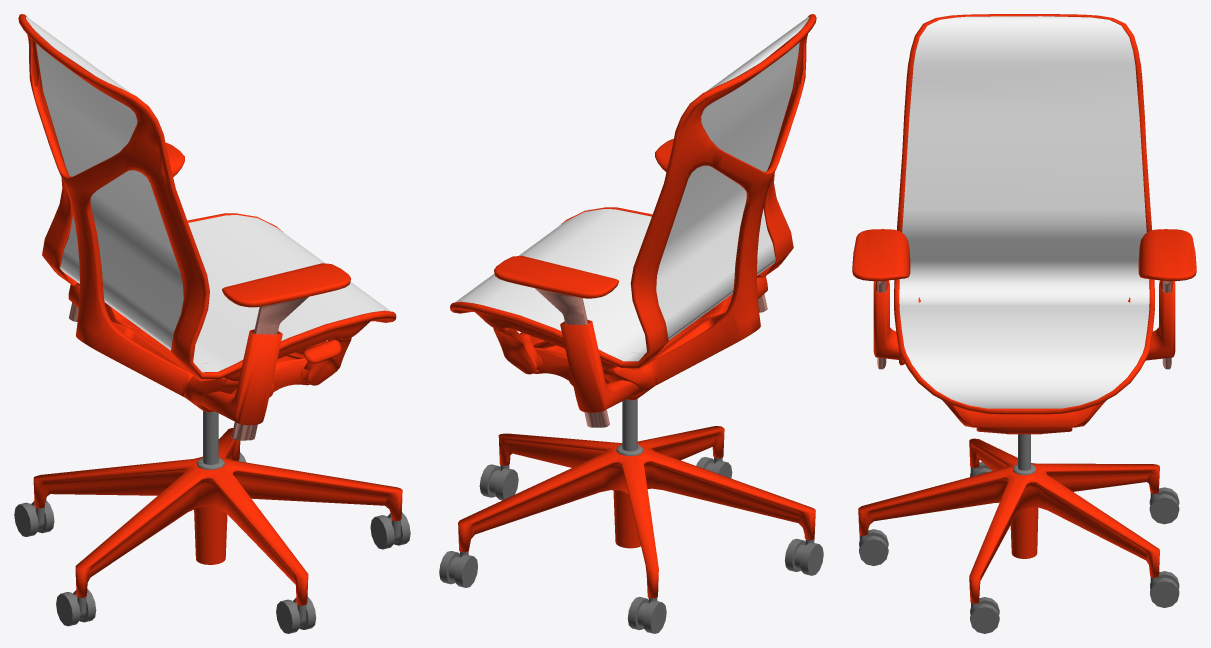
Rendered from chair-hm-embody-gaming_lod1.glb.
The picture shows the model from 3 angles, left to right: view 1: azimuth 30°, elevation 25°; view 2: azimuth 150°, elevation 25°; view 3: azimuth 270°, elevation 25°; orthographic projection. The views are drawn at different scales.
Parts seen in each view (by area): view 1: body; view 2: body; view 3: body.
Part boxes in pixels (left/top/right/bottom): body: left=14, top=14, right=410, bottom=633; body: left=439, top=14, right=823, bottom=633; body: left=852, top=14, right=1196, bottom=633.
Bounding box in the file's own units: 0.71 × 1.1 × 0.71.
